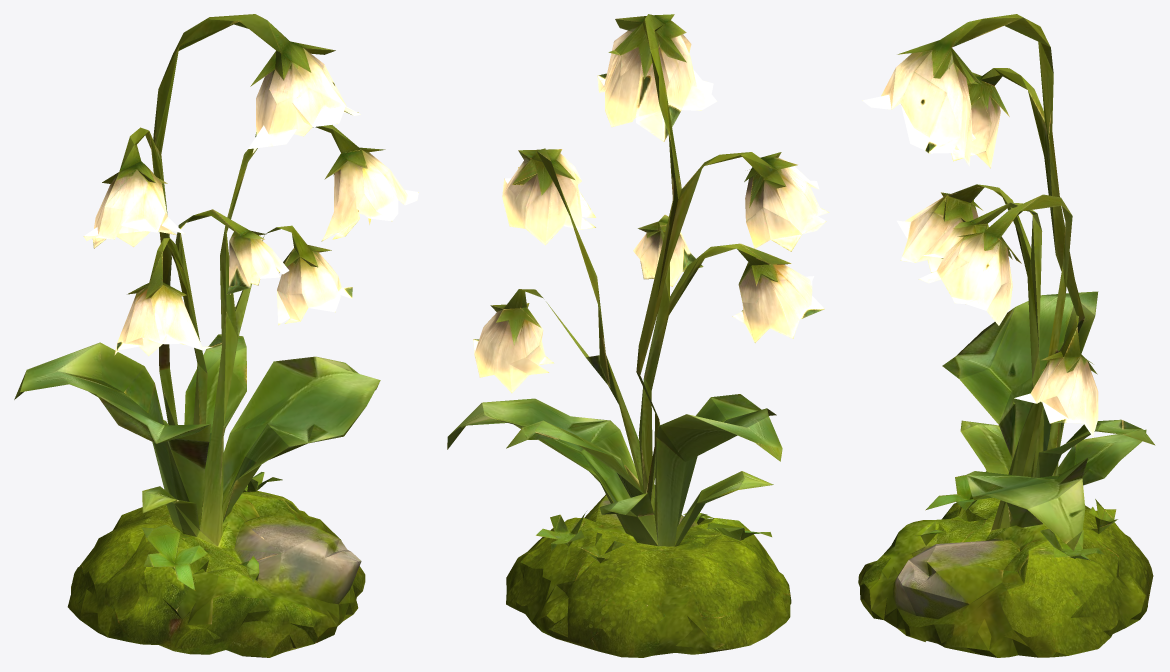
Rendered from INT-001.glb.
3 renders of one model, left to right at view 1: azimuth 30°, elevation 25°; view 2: azimuth 150°, elevation 25°; view 3: azimuth 270°, elevation 25°, orthographic. The views are drawn at different scales.
Parts seen in each view (by area): view 1: INT-001; view 2: INT-001; view 3: INT-001.
Boxes of the visible parts, x1=… form: INT-001: x1=14, y1=14, x2=418, y2=657; INT-001: x1=447, y1=14, x2=829, y2=657; INT-001: x1=858, y1=14, x2=1155, y2=657.
Size of the model in its own units: 0.4416 by 0.7 by 0.3208.
1 material, 1 textured.
